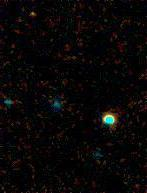star: (10, 0, 40, 28)
